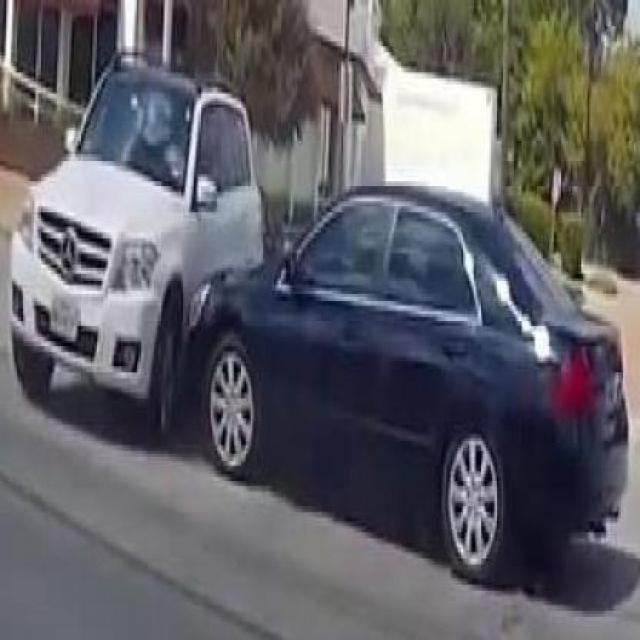accident: (0, 81, 563, 516)
